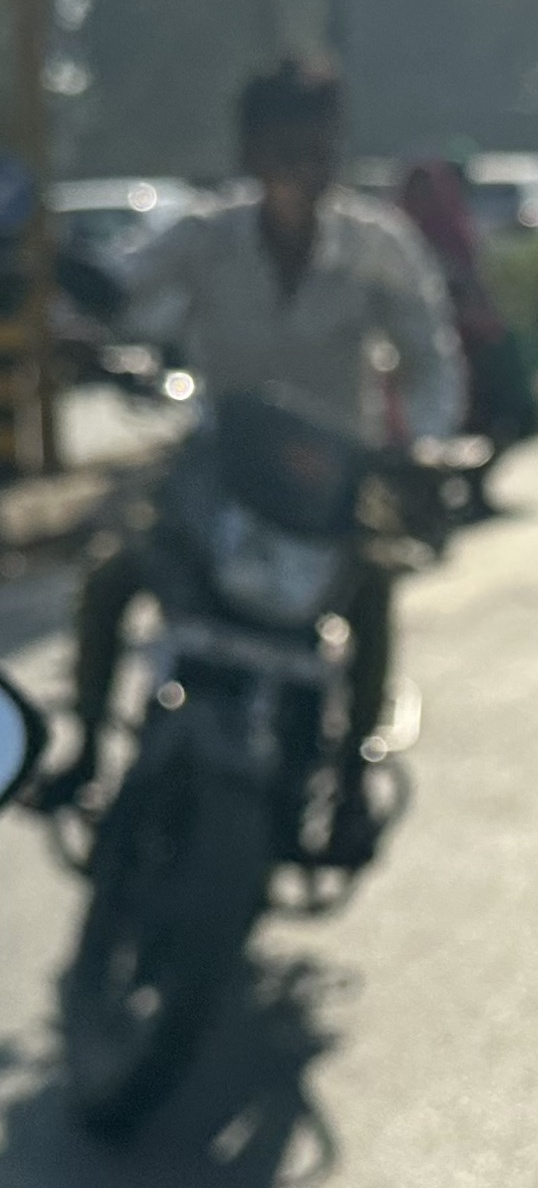BikeWithRider: (4, 36, 504, 1152)
NoHelmet: (206, 38, 377, 228)
